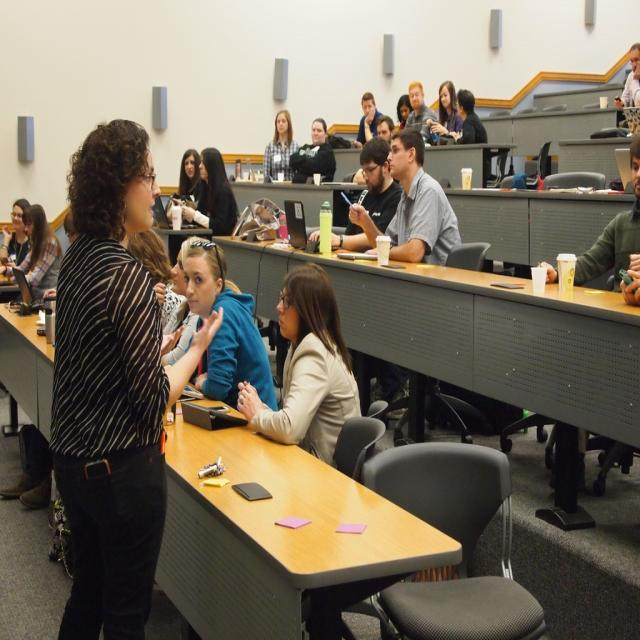chair: (362, 443, 547, 639), (333, 415, 386, 481), (446, 243, 491, 271), (542, 172, 606, 190)
desk: (36, 351, 460, 640)
laptop: (284, 200, 310, 250)
person: (48, 116, 213, 640), (235, 263, 362, 467), (161, 236, 278, 411), (353, 128, 461, 267), (564, 130, 640, 299), (327, 136, 402, 253), (6, 202, 63, 302), (177, 147, 239, 236), (290, 117, 336, 183), (264, 108, 299, 180), (4, 199, 32, 265), (619, 44, 640, 132), (457, 89, 488, 144)
